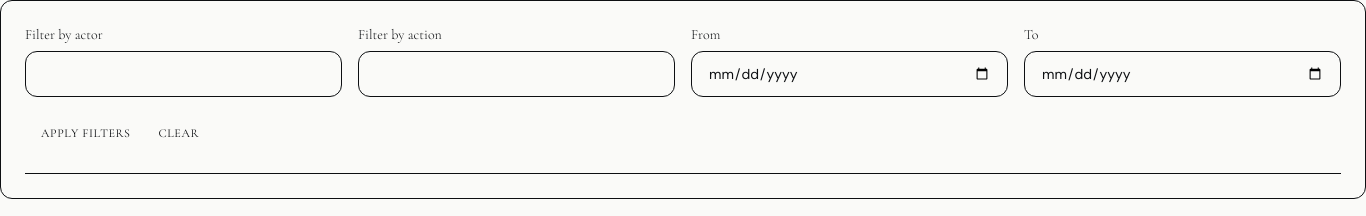
Scenario: AuditFilterBar — clear callback › resets all inputs after Clear click
This screenshot has width=1366, height=216.
Type "some_action" into the field labelled "Filter by action".
click(516, 74); type("some_action")  # box [358, 51, 675, 97]
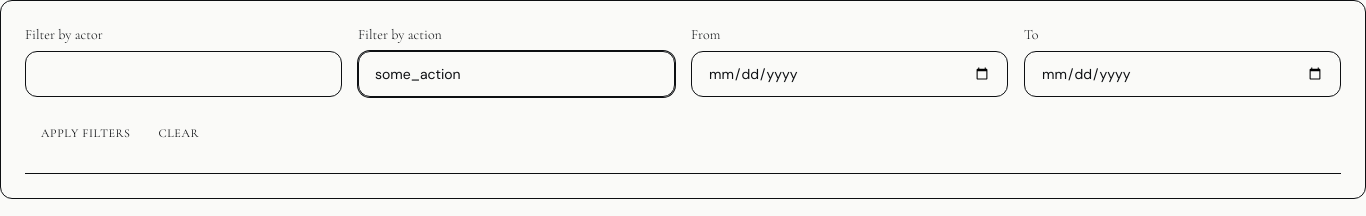
Click the button "Clear".
click(179, 133)  # box [158, 125, 199, 141]
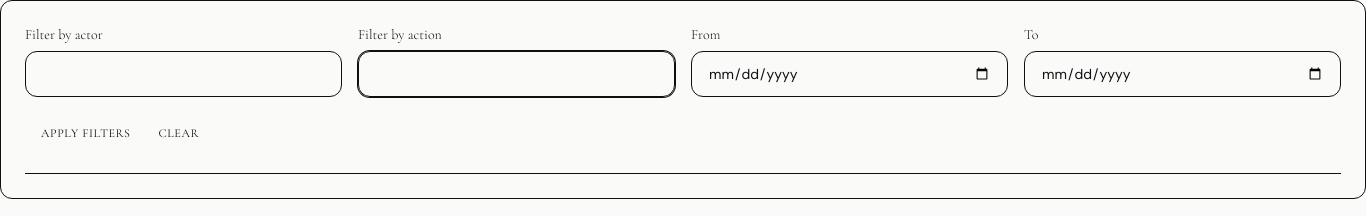
expect the field labelled "Filter by action" is empty: met, box [358, 51, 675, 97]
